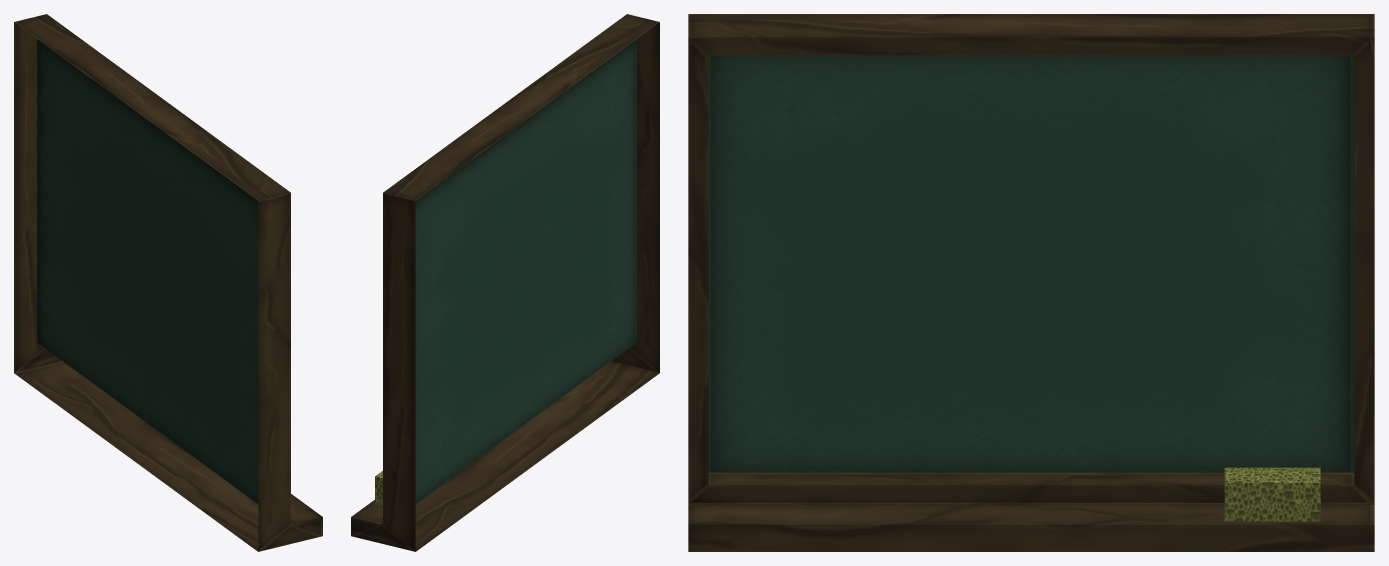
The model's file is tablica.fbx.
The picture shows the model from 3 angles, left to right: view 1: azimuth 30°, elevation 25°; view 2: azimuth 150°, elevation 25°; view 3: azimuth 270°, elevation 25°; orthographic projection. The views are drawn at different scales.
Parts seen in each view (by area): view 1: Cube; view 2: Cube; view 3: Cube.
Part boxes in pixels (bbox=[...]): Cube: bbox=[14, 14, 322, 551]; Cube: bbox=[351, 14, 659, 551]; Cube: bbox=[688, 14, 1374, 551].
Bounding box in the file's own units: 61.22 × 317 × 400.
